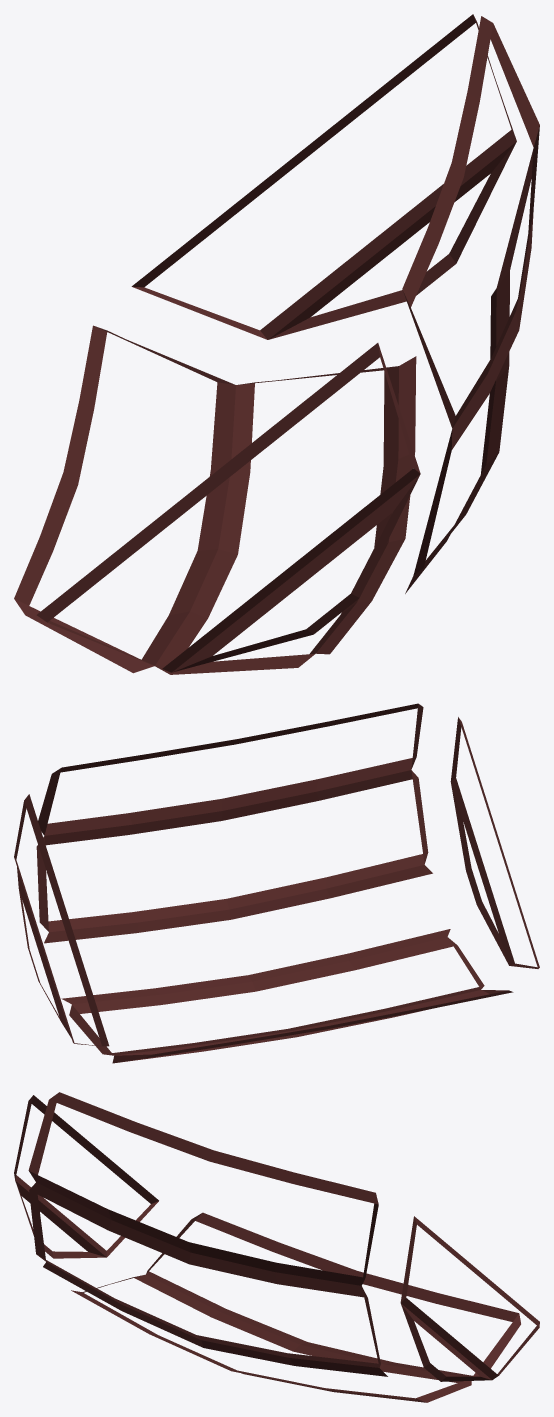
File: n2_chest_top_dark_brown_0_lev2.003.glb
The picture shows the model from 3 angles, top to bottom: view 1: azimuth 30°, elevation 25°; view 2: azimuth 150°, elevation 25°; view 3: azimuth 270°, elevation 25°; orthographic projection. The views are drawn at different scales.
Parts seen in each view (by area): view 1: n2_chest_top_dark_brown_0_lev2.003; view 2: n2_chest_top_dark_brown_0_lev2.003; view 3: n2_chest_top_dark_brown_0_lev2.003.
Part boxes in pixels (x1=…): n2_chest_top_dark_brown_0_lev2.003: x1=14, y1=14, x2=539, y2=674; n2_chest_top_dark_brown_0_lev2.003: x1=14, y1=703, x2=539, y2=1063; n2_chest_top_dark_brown_0_lev2.003: x1=14, y1=1092, x2=539, y2=1402.
Bounding box in the file's own units: 1.69 × 0.9811 × 1.86.
